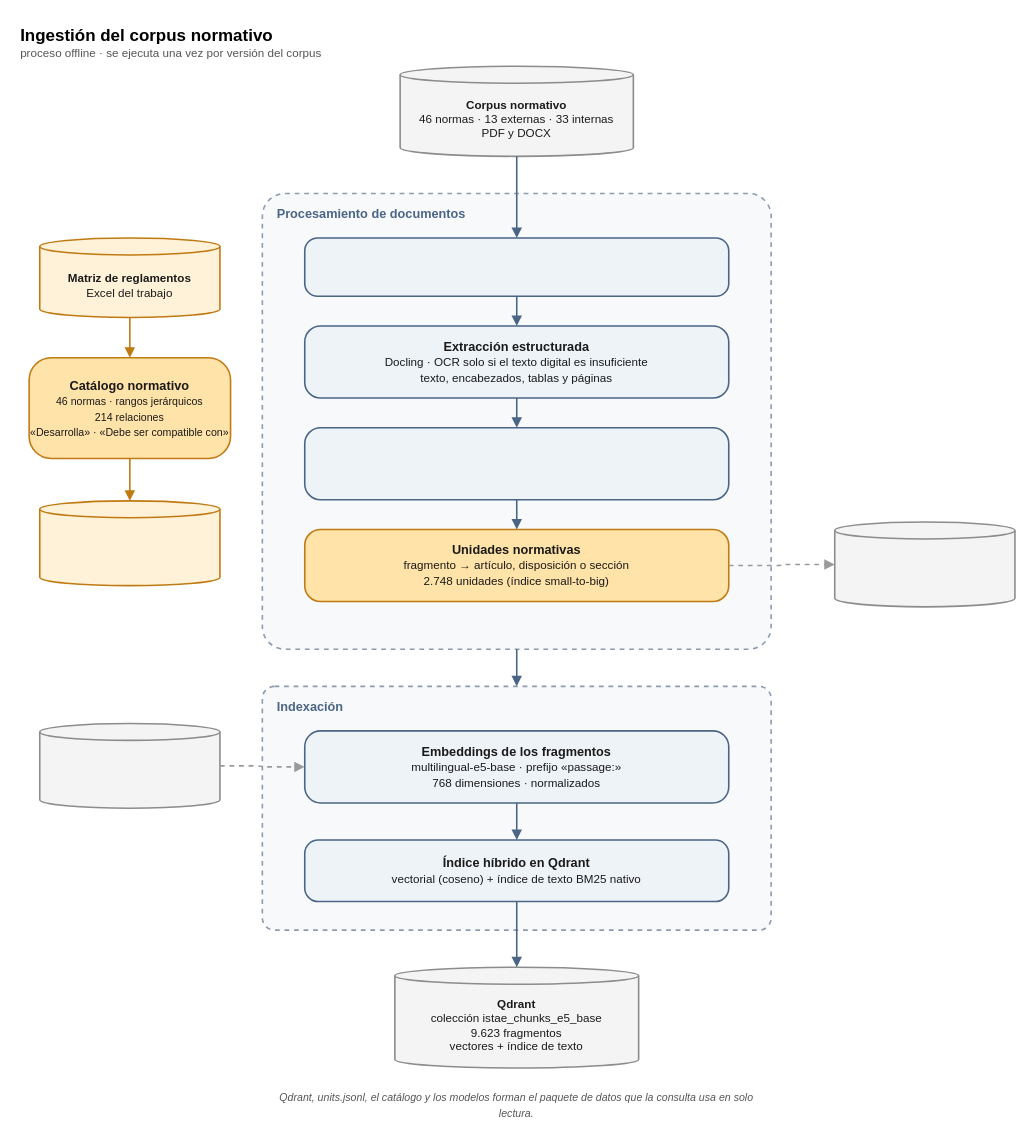
This 1034x1138 diagram has some shape labels left out. The shapes that lost their labels are listed below. From the top down, each one's centre as x and y in pixels, then its label:
the point at 516,267: Inventario identificación estable por norma (EXT##, INT##) · sha256
the point at 516,463: Fragmentación jerárquica HierarchicalChunker de Docling 9.623 fragmentos
the point at 129,543: catalogo_normativo.json copia verificada (sha256)
the point at 924,564: units.jsonl 2.748 unidades fragmento → artículo
the point at 129,765: Modelo E5 multilingual-e5-base local, sin descargas
